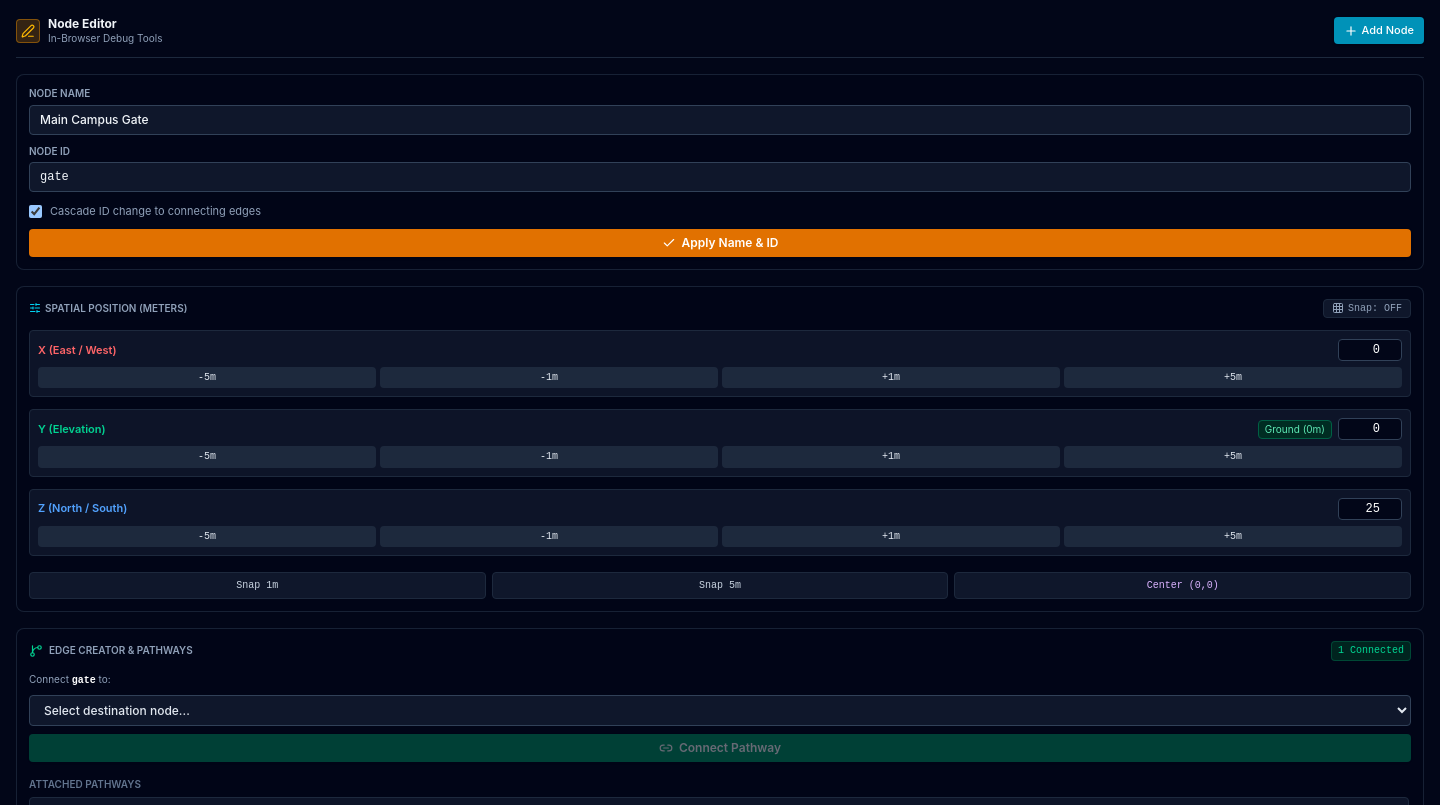
NodeEditorPanel Component › warns when a duplicate ID is entered
Replace the text in the field with test id "node-editor-id-input" with "library" at (720, 177), box [29,162,1411,192]
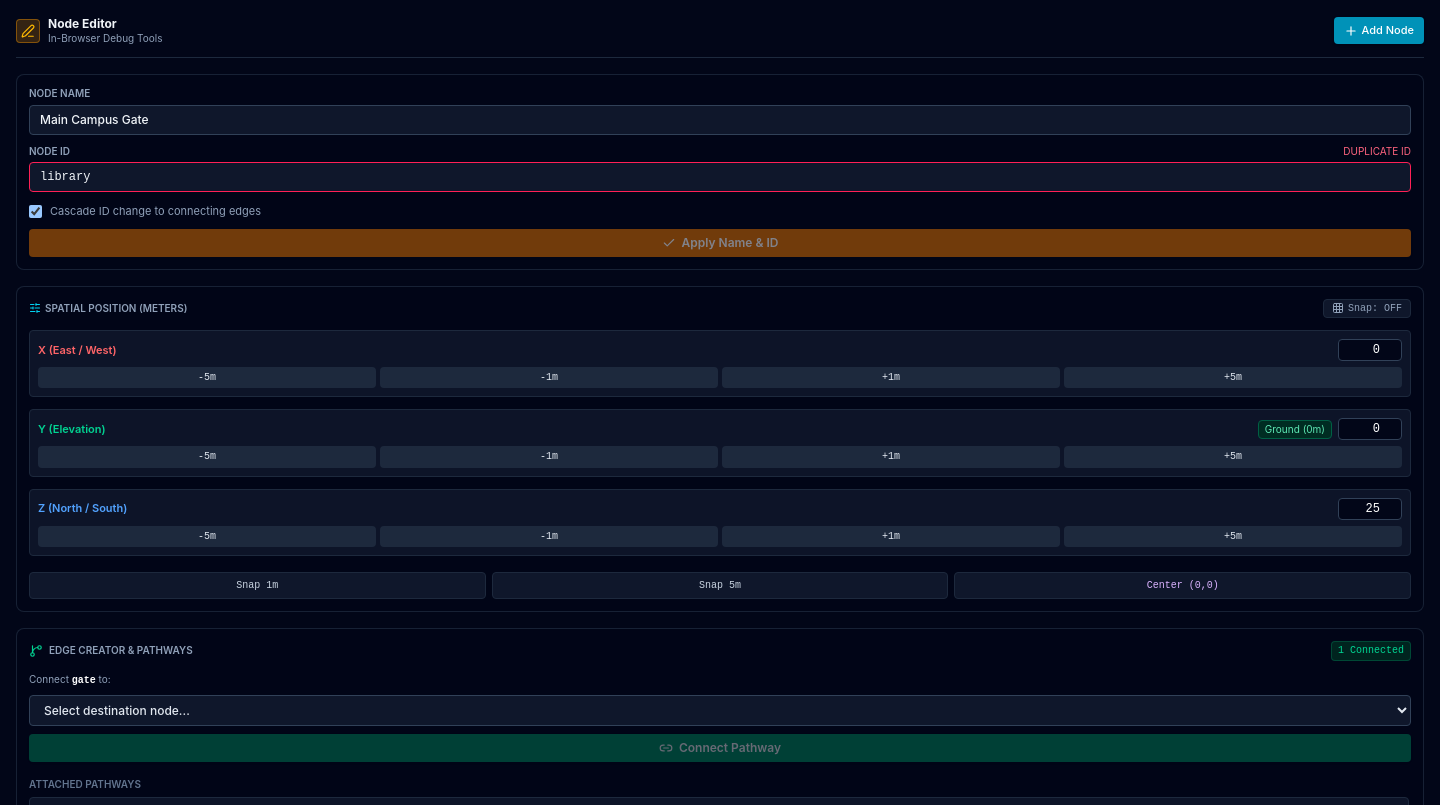
Now the text "Duplicate ID" is shown, box [1343,145,1411,158]
Now the button with test id "save-metadata-btn" is disabled, box [29,229,1411,257]
